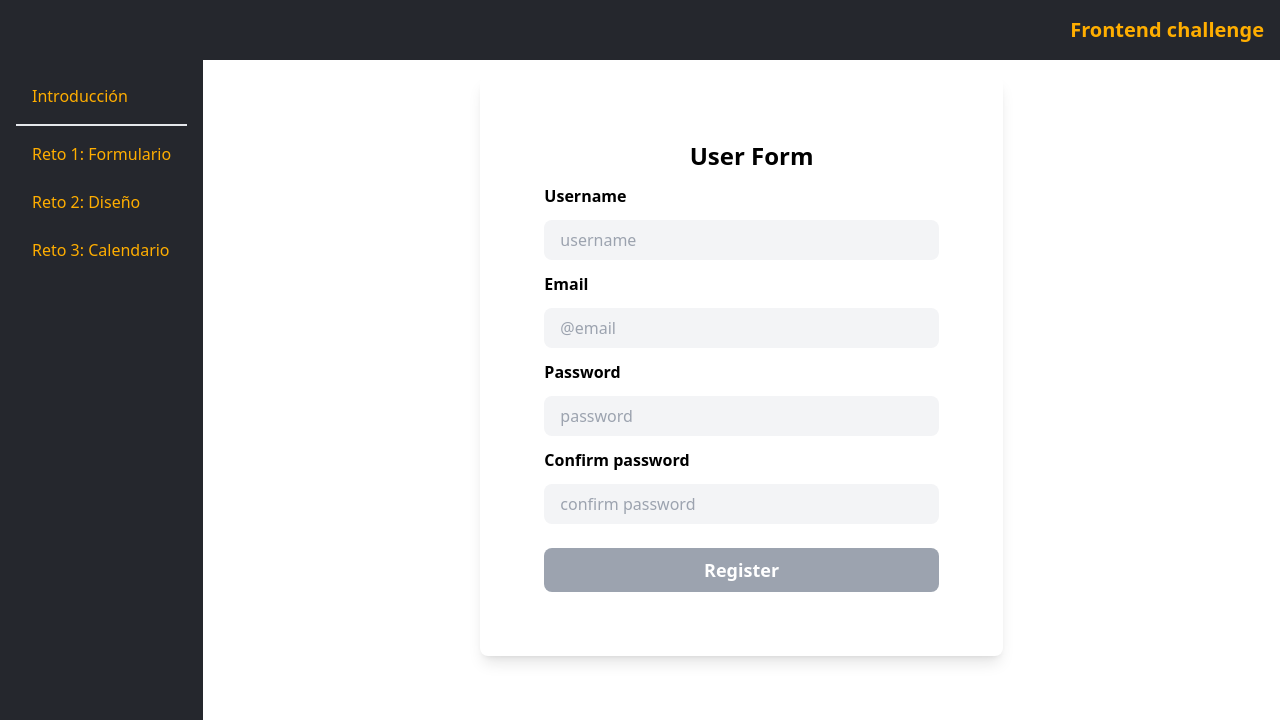
Register form › displays error messages when invalid email is entered
Type "notEmail" into the field with id "email" at (741, 328), box [544,308,938,348]
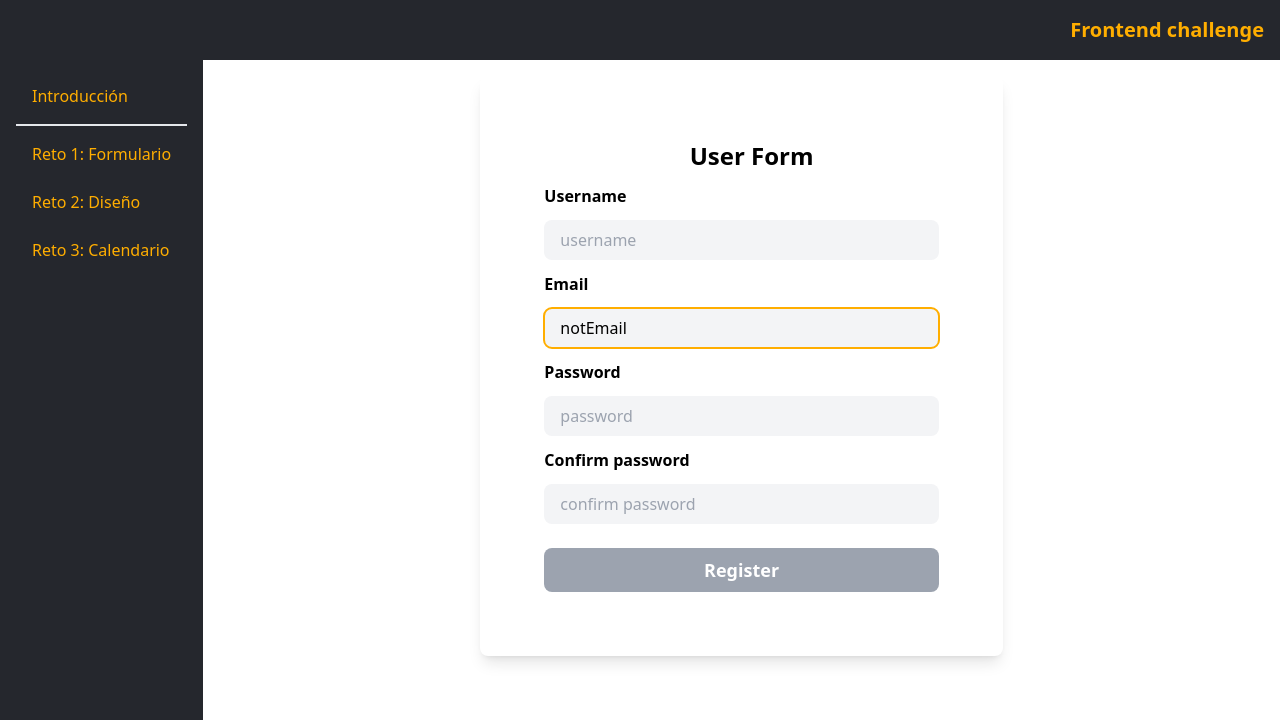
Leave the field with id "email", box [544,308,938,348]
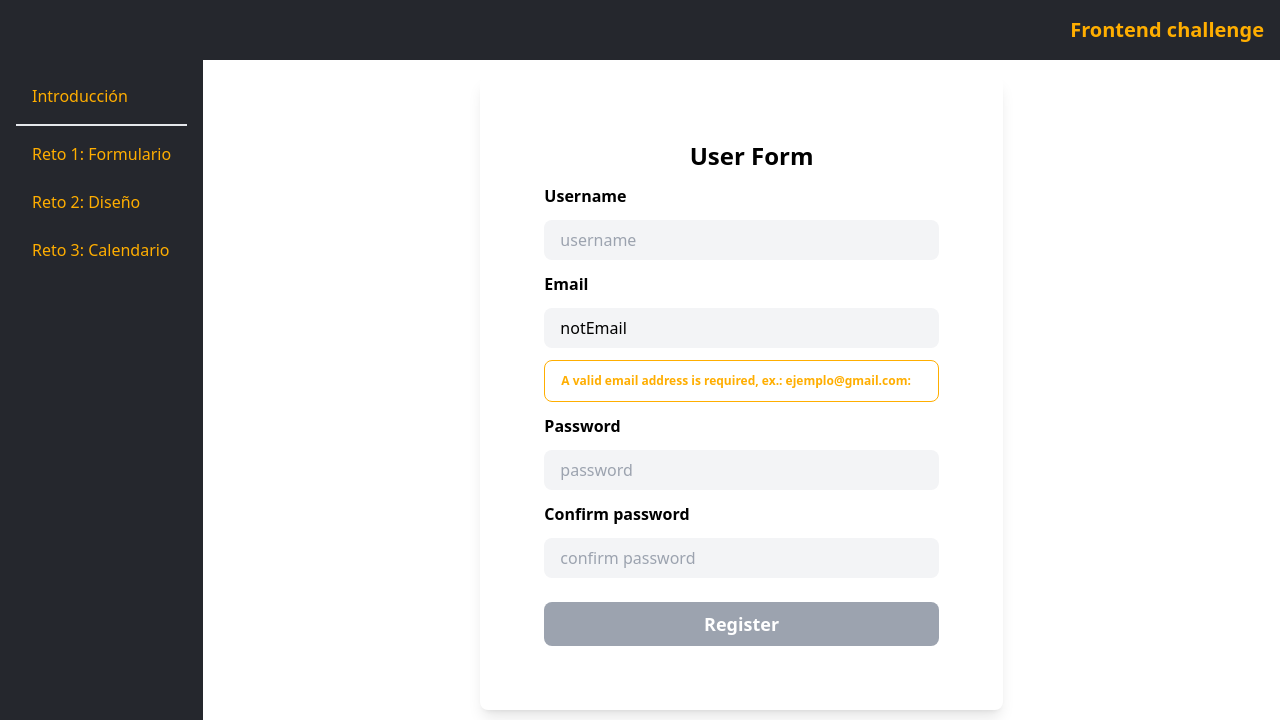
Check: the text "A valid email address is required" is shown, box [561,372,910,389]
